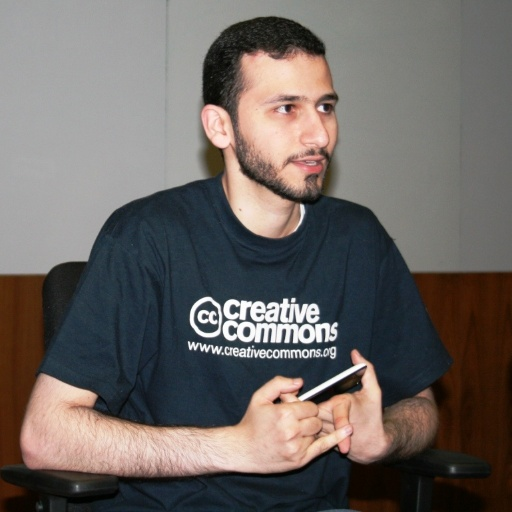hand: (213, 371, 342, 476), (277, 348, 390, 466)
